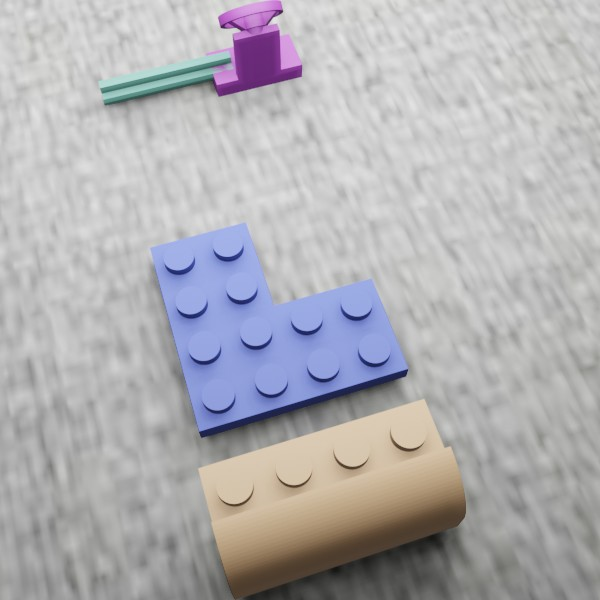lego: (149, 222, 408, 438), (198, 398, 465, 600), (205, 0, 301, 97), (98, 51, 234, 105)
